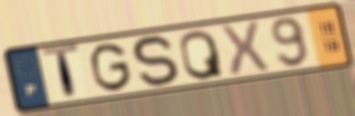9: (269, 16, 312, 70)
G: (89, 41, 134, 94)
Q: (178, 27, 226, 82)
S: (130, 33, 182, 91)
T: (40, 42, 82, 103)
X: (217, 19, 273, 79)
